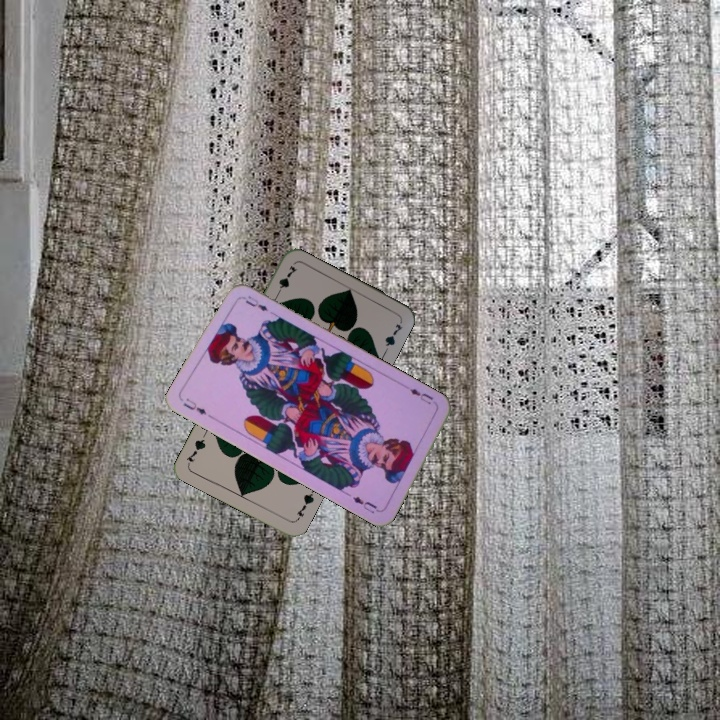EU: (179, 394, 209, 418), (405, 384, 436, 407)
G7: (272, 261, 300, 299), (292, 485, 317, 523)
